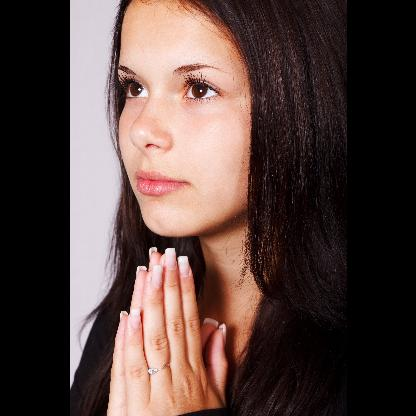Female: (114, 0, 254, 235)
